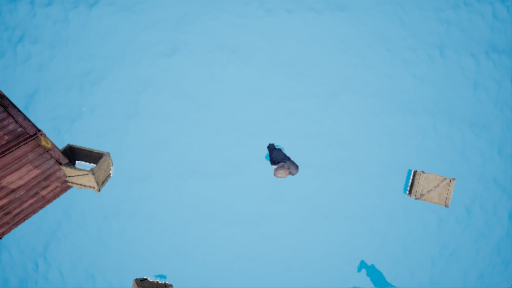person: (251, 141, 310, 189)
